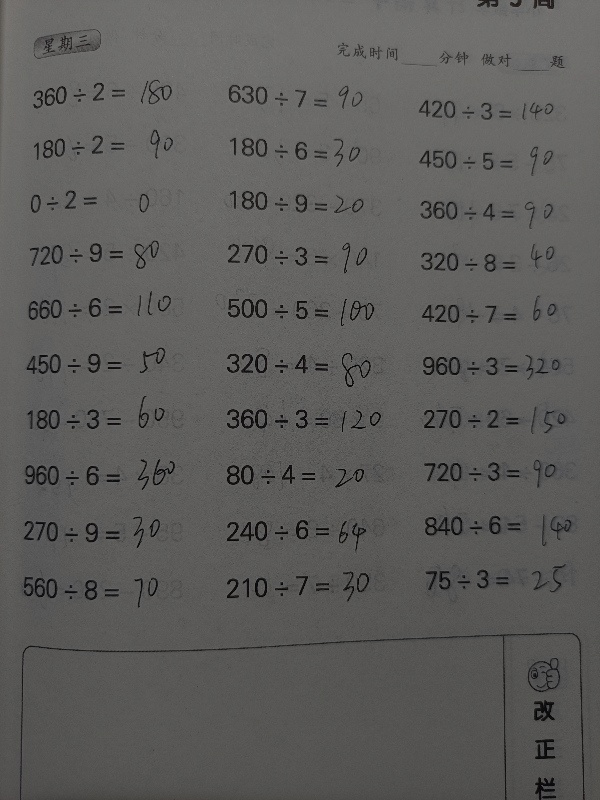equation: (16, 509, 196, 556), (215, 346, 398, 391), (217, 508, 397, 553), (20, 234, 200, 279), (415, 399, 595, 443), (220, 130, 400, 174), (219, 291, 399, 334), (414, 347, 594, 388), (217, 401, 397, 438), (14, 570, 194, 606), (217, 568, 397, 604), (218, 457, 398, 493), (15, 457, 195, 493), (17, 345, 197, 381), (15, 183, 177, 223), (416, 562, 596, 597), (415, 507, 595, 542), (416, 454, 596, 489), (20, 402, 200, 437), (19, 290, 199, 325), (219, 237, 399, 272), (221, 185, 401, 220), (25, 128, 205, 163), (23, 76, 203, 111), (413, 296, 593, 330), (412, 245, 592, 279), (411, 194, 591, 228), (410, 143, 590, 177), (410, 93, 590, 127), (219, 79, 399, 113)
